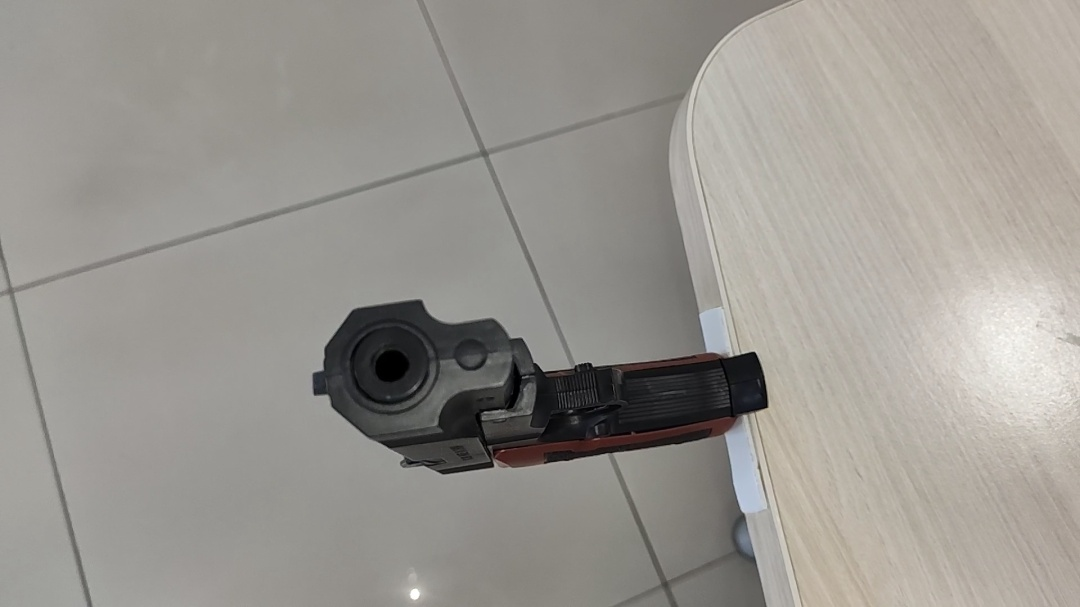gun: (381, 252, 422, 274)
